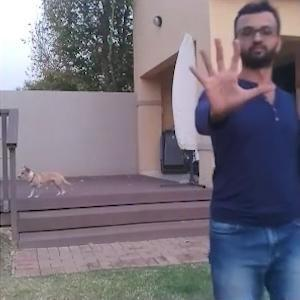follow_hand: (185, 31, 277, 119)
